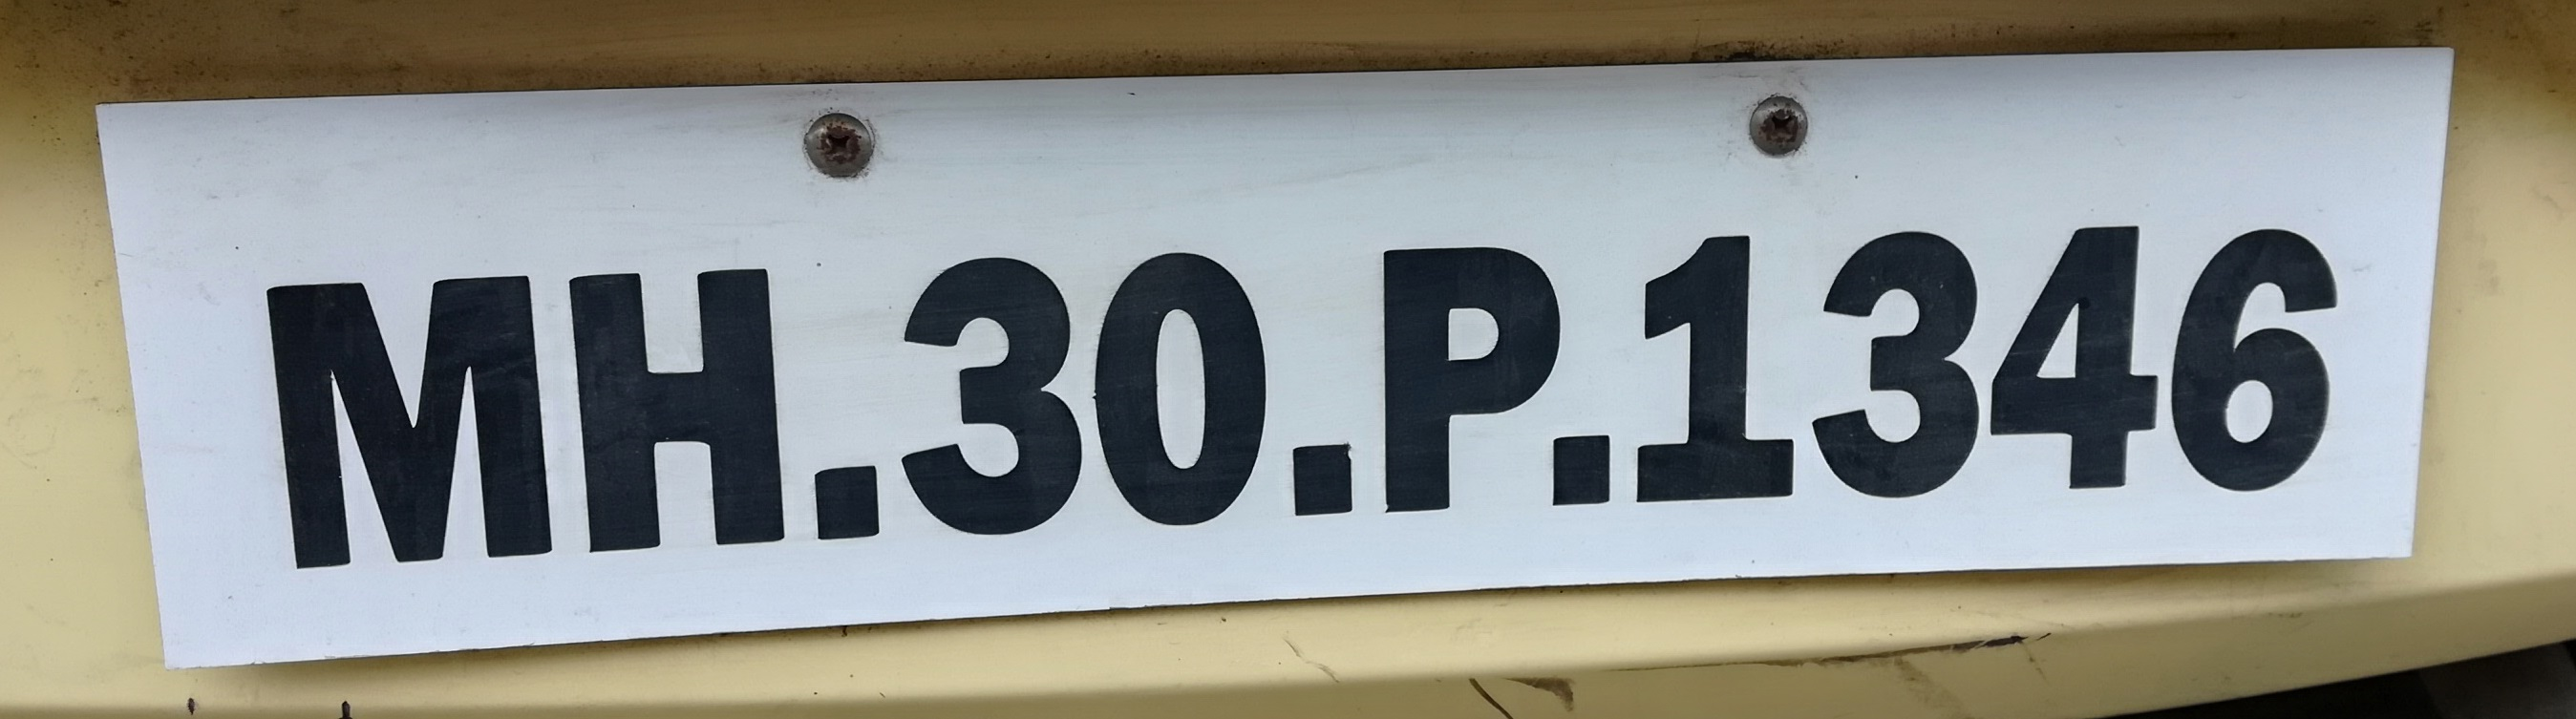numberplate: (86, 39, 2459, 671)
